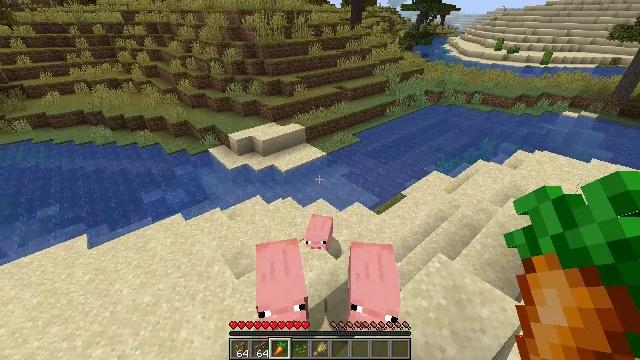pig: (254, 241, 309, 329), (350, 240, 404, 329), (306, 213, 332, 254)
